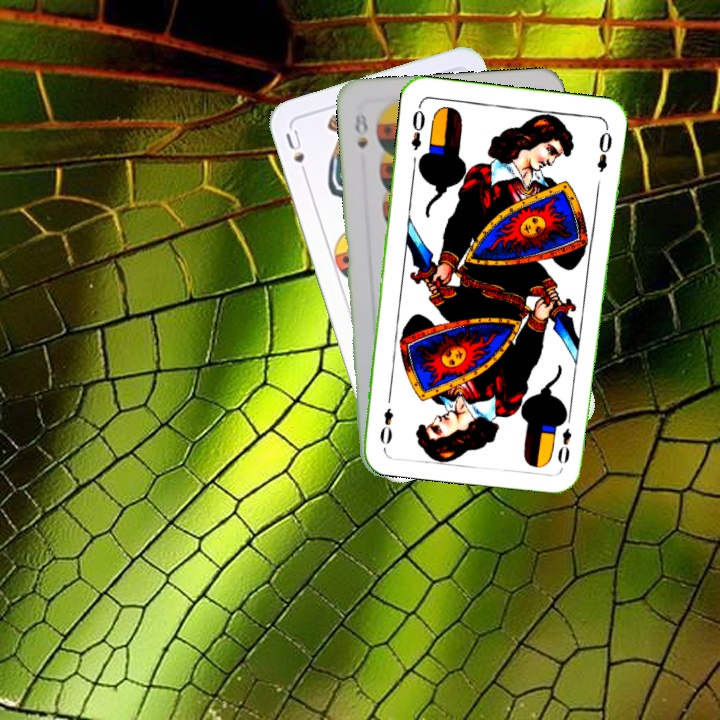EO: (553, 410, 574, 467), (407, 101, 428, 153)
S8: (350, 110, 371, 151)
SU: (281, 125, 311, 182)
